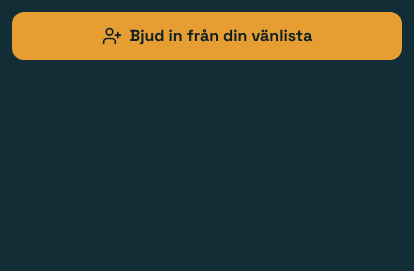
Scenario: one free place only allows one selected friend
Click the button "Bjud in från din vänlista". click: (207, 36)
box: 12,12 -> 402,60
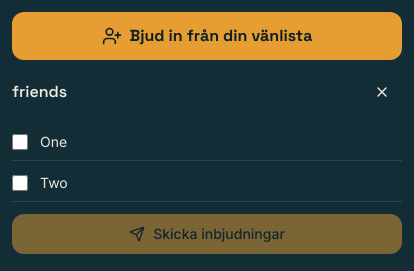
Click the checkbox labelled "One". click: (20, 142)
box: 12,134 -> 28,150
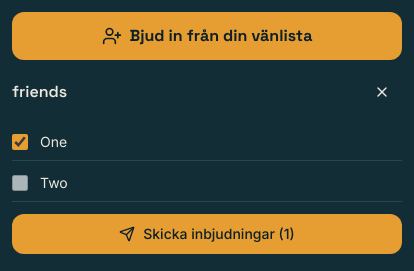
Expected: the checkbox labelled "Two" is disabled, 12,175 -> 28,191
